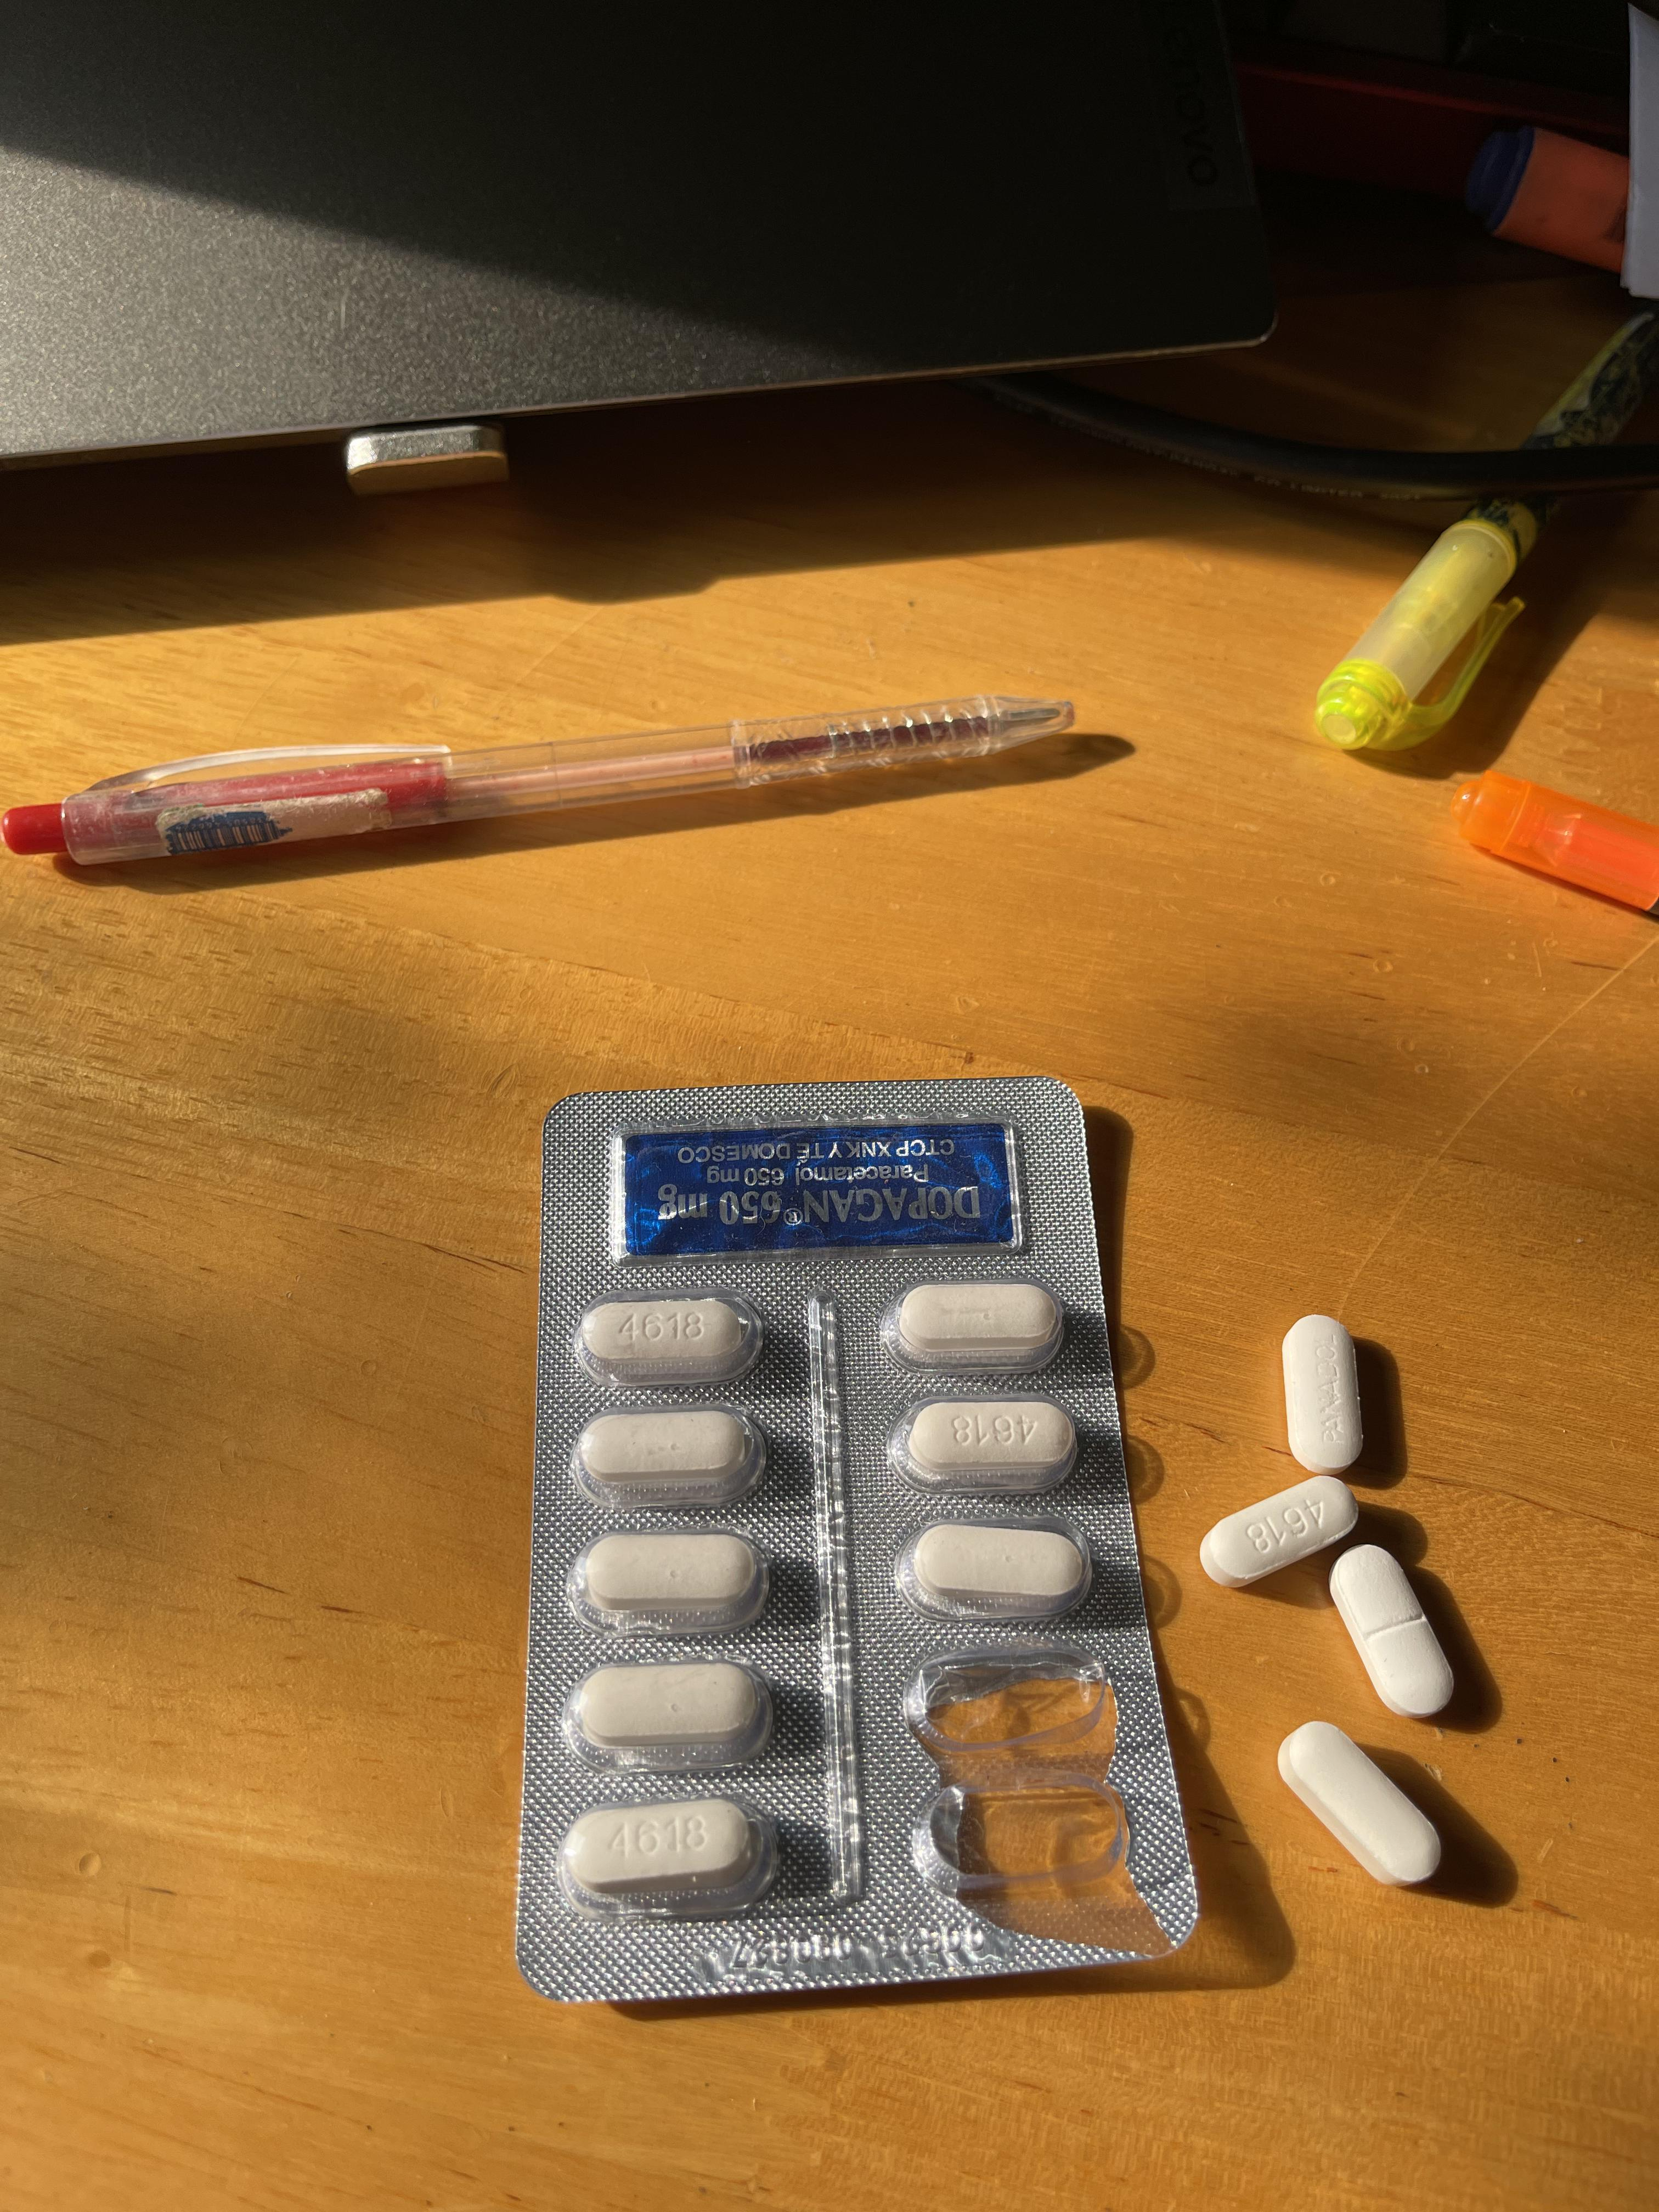Paracetamol_350mg: (1330, 1545, 1455, 1721), (1281, 1315, 1364, 1475)
Paracetamol_500mg: (1277, 1719, 1441, 1888), (563, 1658, 765, 1759), (554, 1799, 753, 1900), (570, 1527, 765, 1622), (573, 1409, 763, 1503), (1202, 1477, 1356, 1587), (892, 1397, 1072, 1489), (573, 1292, 760, 1378), (901, 1524, 1086, 1609), (885, 1277, 1061, 1364)
